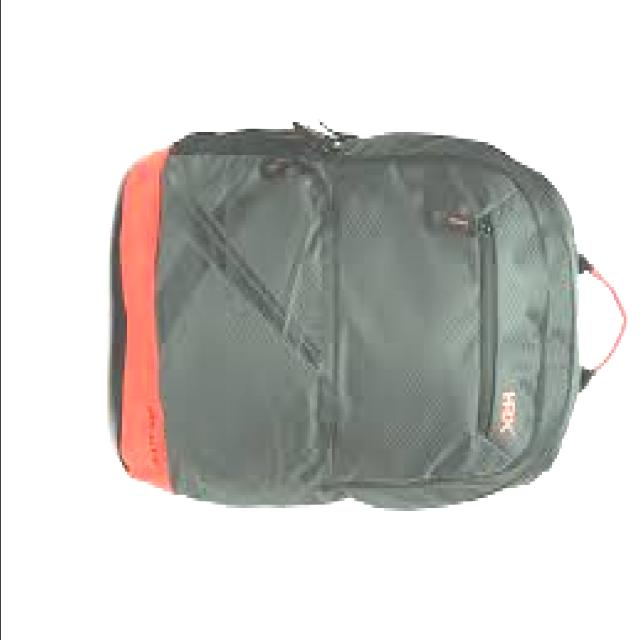backpack: (115, 120, 631, 512)
